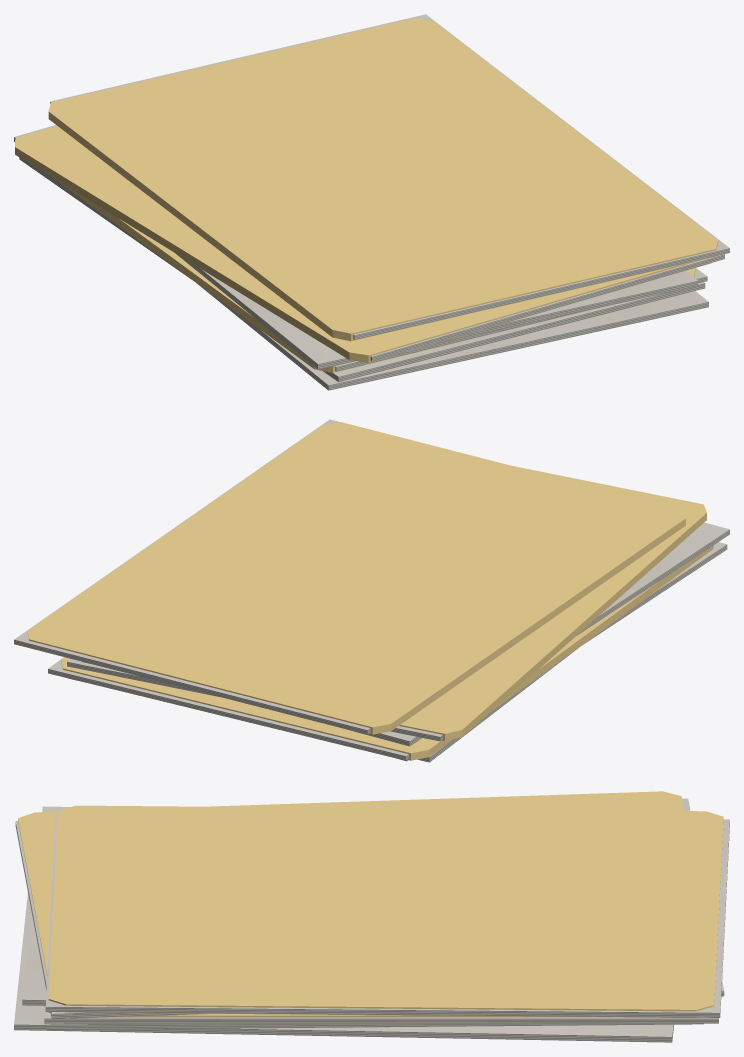
File: Folders N Papers.fbx
3 renders of one model, top to bottom at view 1: azimuth 30°, elevation 25°; view 2: azimuth 150°, elevation 25°; view 3: azimuth 270°, elevation 25°, orthographic. The views are drawn at different scales.
Parts seen in each view (by area): view 1: Manila Folder.002, Manila Folder.001, Stack-o-Papers.005, Stack-o-Papers.002, Stack-o-Papers, Stack-o-Papers.004, Manila Folder, Stack-o-Papers.003, Stack-o-Papers.001; view 2: Manila Folder.002, Manila Folder.001, Manila Folder, Stack-o-Papers.004, Stack-o-Papers.001, Stack-o-Papers.002, Stack-o-Papers.003, Stack-o-Papers.005; view 3: Manila Folder.002, Manila Folder.001, Stack-o-Papers.005, Stack-o-Papers.004, Stack-o-Papers.001, Stack-o-Papers, Manila Folder, Stack-o-Papers.002, Stack-o-Papers.003.
Boxes of the visible parts, x1,y1,x2,y2 form: Manila Folder.002: (48, 18, 718, 341); Manila Folder.001: (15, 126, 711, 362); Stack-o-Papers.005: (196, 283, 708, 390); Stack-o-Papers.002: (175, 253, 698, 369); Stack-o-Papers: (19, 157, 705, 381); Stack-o-Papers.004: (50, 14, 729, 339); Manila Folder: (55, 179, 695, 372); Stack-o-Papers.003: (14, 125, 724, 361); Stack-o-Papers.001: (335, 268, 707, 371); Manila Folder.002: (27, 422, 685, 734); Manila Folder.001: (82, 466, 706, 740); Manila Folder: (61, 545, 713, 760); Stack-o-Papers.004: (14, 419, 370, 734); Stack-o-Papers.001: (48, 657, 408, 760); Stack-o-Papers.002: (350, 522, 729, 746); Stack-o-Papers.003: (67, 658, 442, 741); Stack-o-Papers.005: (396, 542, 727, 761); Manila Folder.002: (48, 805, 723, 1017); Manila Folder.001: (18, 791, 684, 1018); Stack-o-Papers.005: (14, 893, 673, 1042); Stack-o-Papers.004: (45, 813, 729, 1017); Stack-o-Papers.001: (44, 1006, 718, 1023); Stack-o-Papers: (44, 1006, 703, 1030); Manila Folder: (48, 1012, 694, 1023); Stack-o-Papers.002: (22, 806, 70, 1005); Stack-o-Papers.003: (15, 798, 724, 1018).
Size of the model in its own units: 0.6306 by 0.0562 by 0.836.
2 materials, 1 textured.
